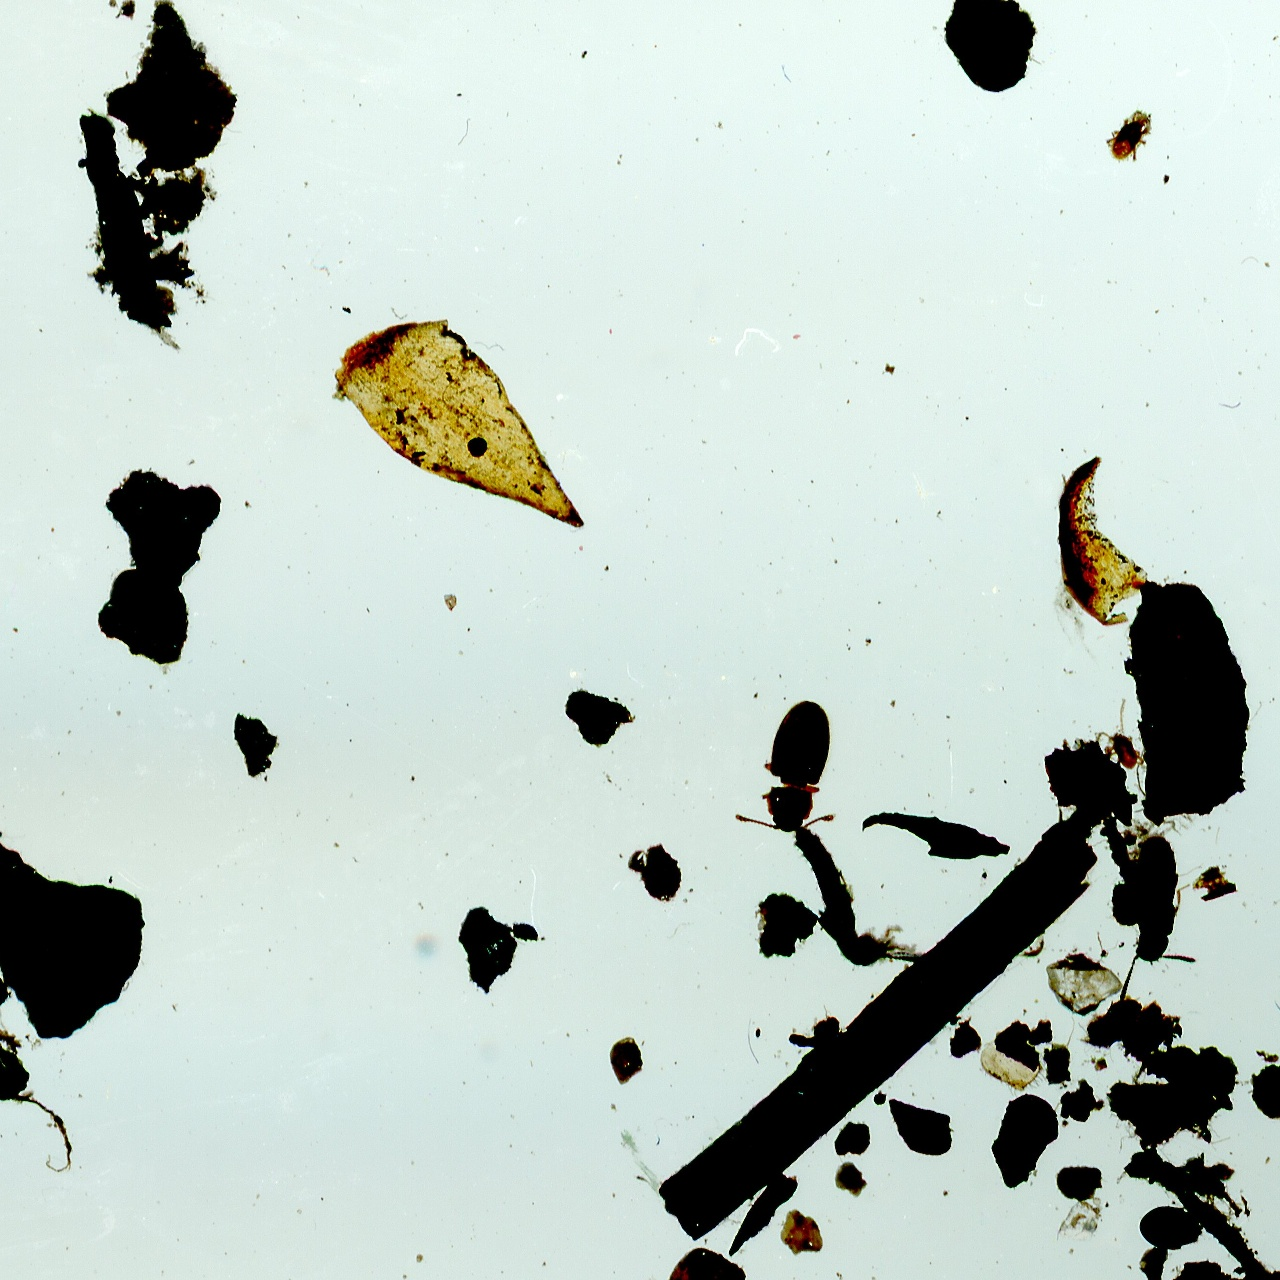arthropod: (763, 804, 917, 990), (732, 696, 838, 839), (1117, 830, 1199, 1008), (1093, 93, 1168, 177), (1093, 696, 1147, 772)
